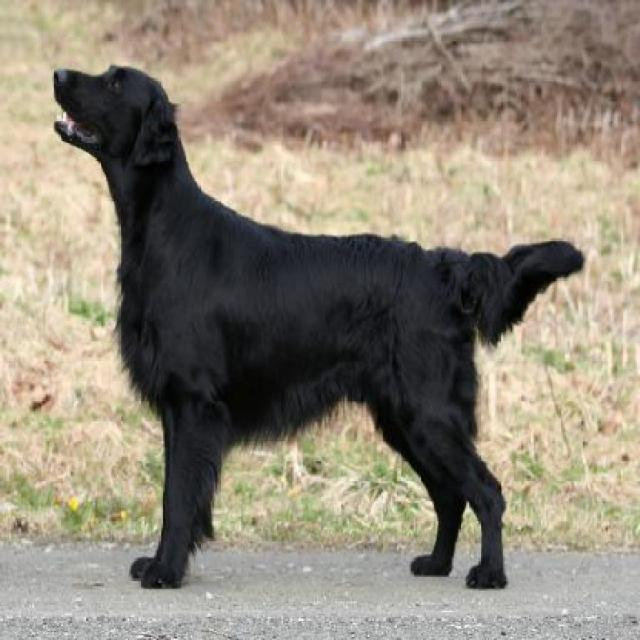animals: (47, 41, 598, 640)
